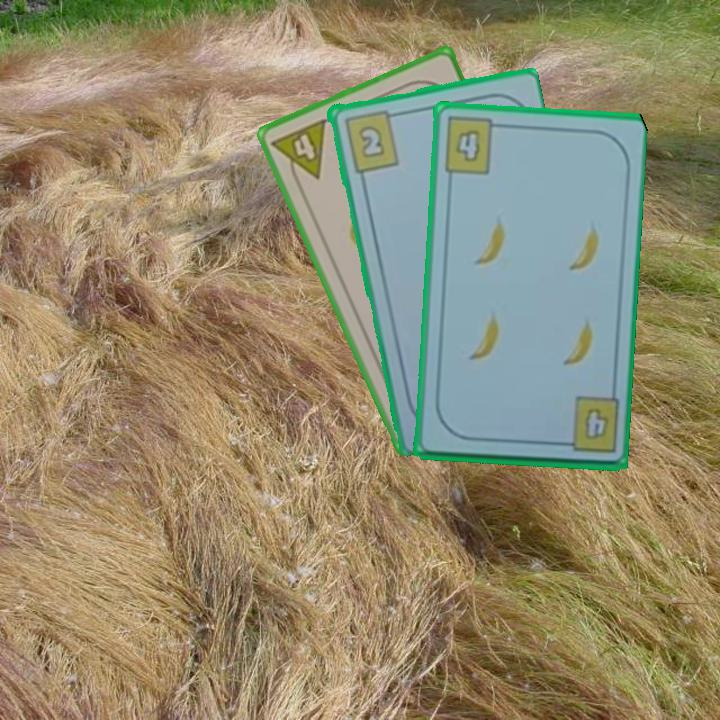2b: (340, 106, 401, 175)
4b: (554, 394, 621, 456), (440, 114, 505, 177)
4p: (267, 115, 329, 190)
